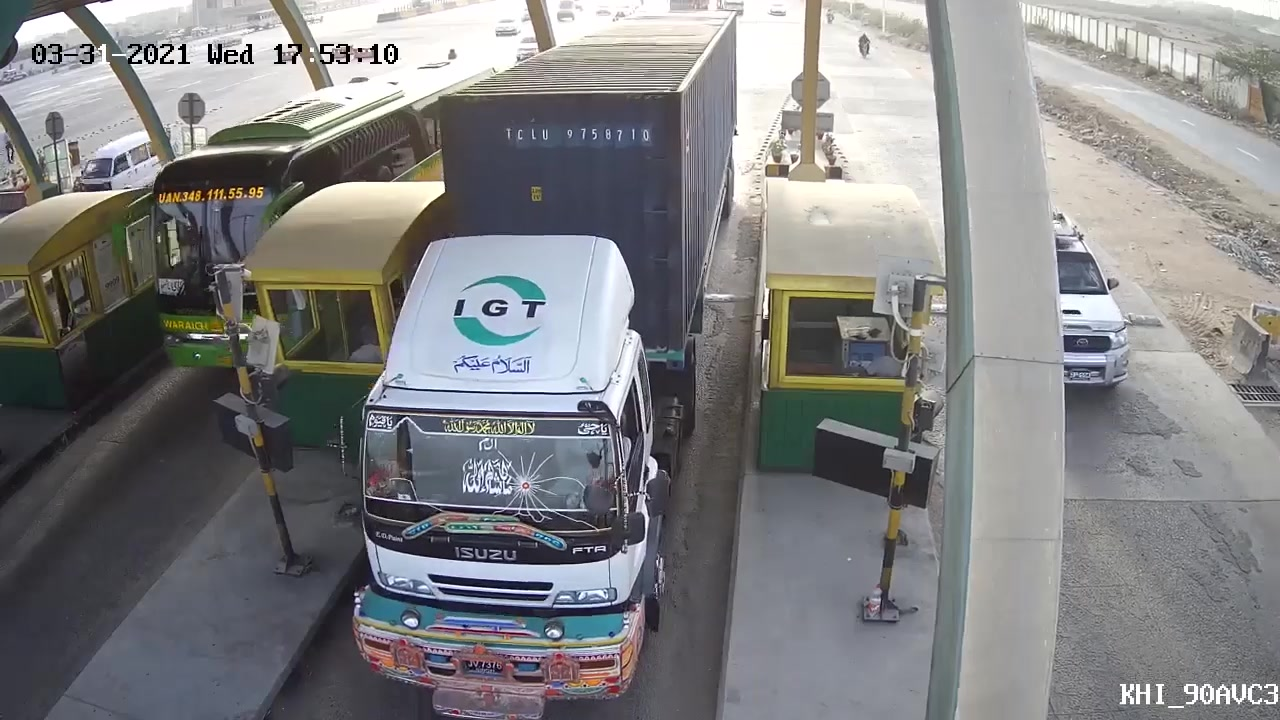F6: (337, 1, 743, 714)
